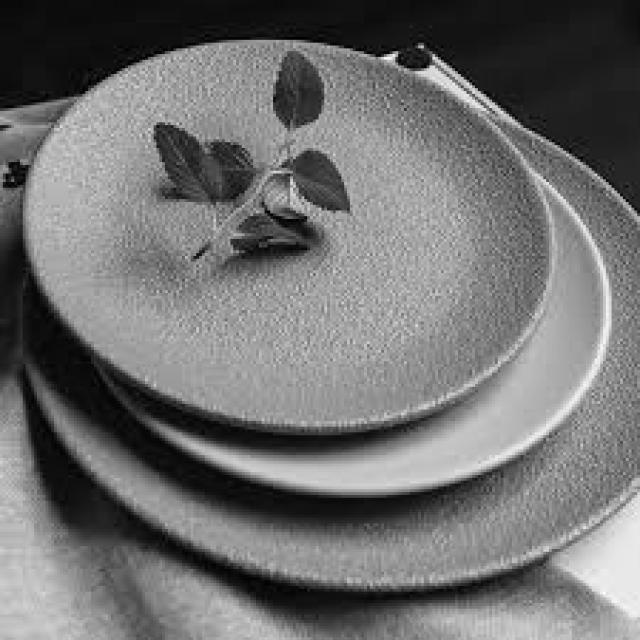dish: (15, 17, 629, 508)
